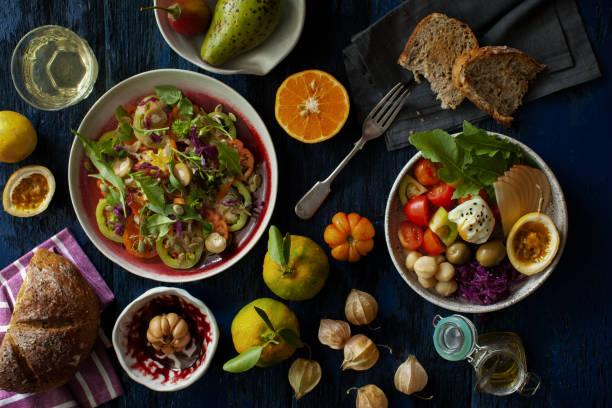Braised Crucian Carp: (68, 68, 273, 279), (382, 129, 562, 312)
